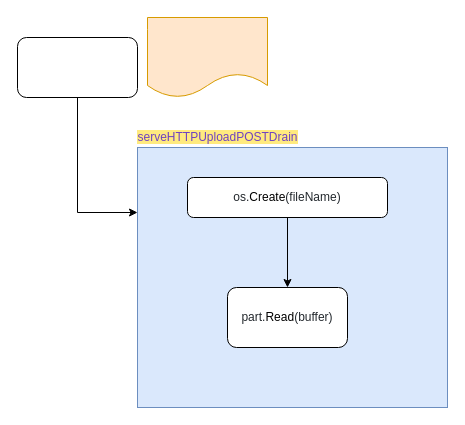
Some shapes in this 465 by 425 pixel diagram are drawn without their labels. Here are the shapes that lost their labels. From the top down, the centre of each, then its label:
At pixel 77 67: "makeHttpServer".
At pixel 207 57: "fileserver.conf IP/PORT/URL".
